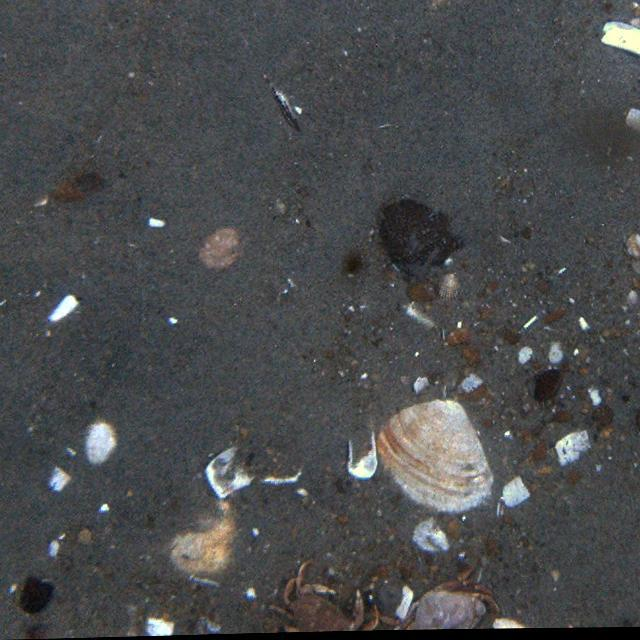crab: (267, 560, 365, 632), (396, 572, 501, 630)
